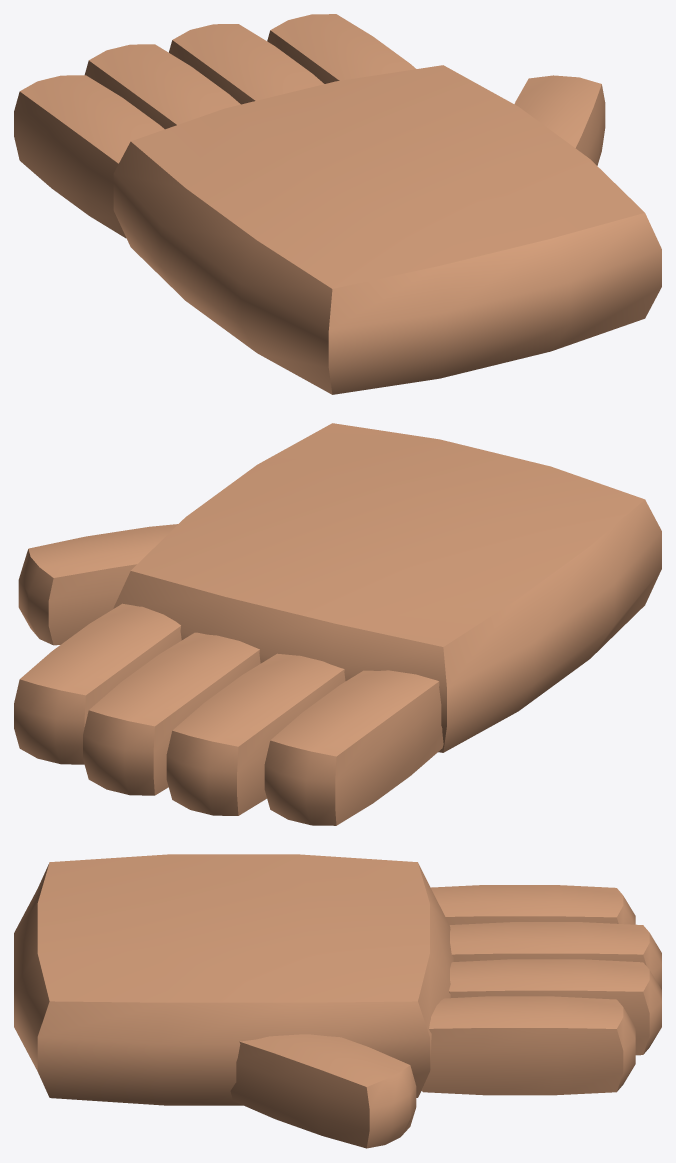
File: mano.glb
3 views of the same model, one above another, from view 1: azimuth 30°, elevation 25°; view 2: azimuth 150°, elevation 25°; view 3: azimuth 270°, elevation 25° (orthographic). The views are drawn at different scales.
Parts seen in each view (by area): view 1: mano; view 2: mano; view 3: mano.
Part boxes in pixels (x1,y1,x2,y2): mano: (14, 14, 661, 394); mano: (14, 423, 661, 825); mano: (14, 854, 661, 1148).
Size of the model in its own units: 0.2291 by 0.0578 by 0.2944.
